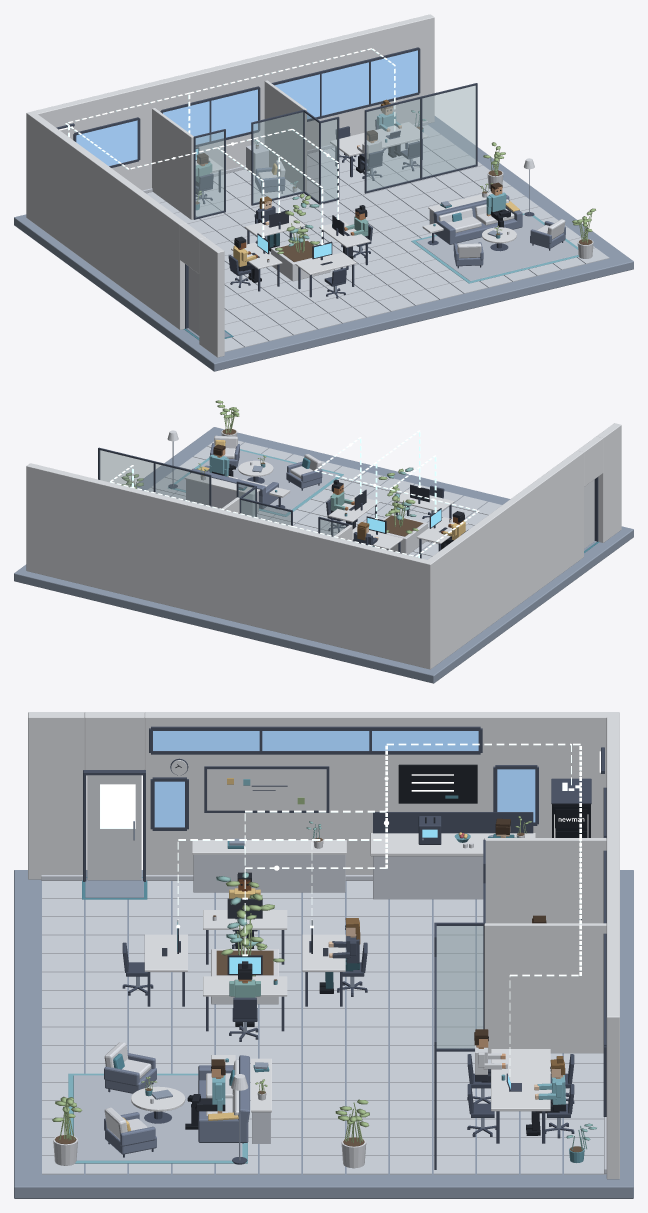
Rendered from office.glb.
3 renders of one model, top to bottom at view 1: azimuth 30°, elevation 25°; view 2: azimuth 150°, elevation 25°; view 3: azimuth 270°, elevation 25°, orthographic. The views are drawn at different scales.
Visible parts, largest first — view 1: Office_Shell, Conference, Office_Room, Lounge, Work_Pod, Wall_Details, Net_Lines, Person_Couch, Person_Conf3, Person_Pod3, Person_Conf0, Person_Pod2; view 2: Office_Shell, Lounge, Work_Pod, Conference, Office_Room, Net_Lines, Person_Couch, Person_Pod1; view 3: Office_Shell, Wall_Details, Office_Room, Lounge, Coffee_Point, Conference, Work_Pod, Net_Lines, Server_Racks, Person_Conf3, Person_Pod2, Person_Conf0 (+2 smaller).
Boxes of the visible parts, bbox=[...] form: Office_Shell: bbox=[14, 14, 633, 371]; Conference: bbox=[271, 47, 477, 204]; Office_Room: bbox=[152, 80, 306, 219]; Lounge: bbox=[184, 142, 595, 340]; Work_Pod: bbox=[228, 193, 372, 298]; Wall_Details: bbox=[73, 117, 140, 167]; Net_Lines: bbox=[65, 48, 395, 242]; Person_Couch: bbox=[486, 182, 506, 227]; Person_Conf3: bbox=[377, 99, 401, 157]; Person_Pod3: bbox=[233, 236, 261, 282]; Person_Conf0: bbox=[356, 130, 381, 173]; Person_Pod2: bbox=[256, 196, 279, 251]; Office_Shell: bbox=[14, 423, 633, 683]; Lounge: bbox=[121, 400, 599, 552]; Work_Pod: bbox=[326, 467, 468, 558]; Conference: bbox=[98, 447, 256, 516]; Office_Room: bbox=[222, 497, 352, 541]; Net_Lines: bbox=[110, 430, 479, 557]; Person_Couch: bbox=[209, 444, 233, 476]; Person_Pod1: bbox=[330, 479, 355, 529]; Office_Shell: bbox=[14, 712, 633, 1198]; Wall_Details: bbox=[149, 726, 606, 892]; Office_Room: bbox=[483, 838, 606, 1053]; Lounge: bbox=[52, 877, 369, 1168]; Coffee_Point: bbox=[370, 764, 535, 899]; Conference: bbox=[434, 922, 606, 1169]; Work_Pod: bbox=[122, 872, 367, 1041]; Net_Lines: bbox=[177, 743, 581, 1076]; Server_Racks: bbox=[551, 747, 604, 837]; Person_Conf3: bbox=[526, 1056, 566, 1135]; Person_Pod2: bbox=[319, 918, 360, 993]; Person_Conf0: bbox=[474, 1029, 505, 1082].
Bounding box in the file's own units: 13.8 × 3.58 × 11.4.
